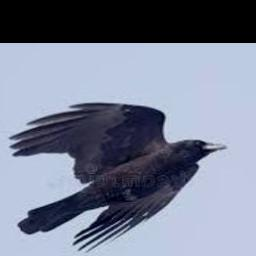Crow: (9, 100, 228, 251)
